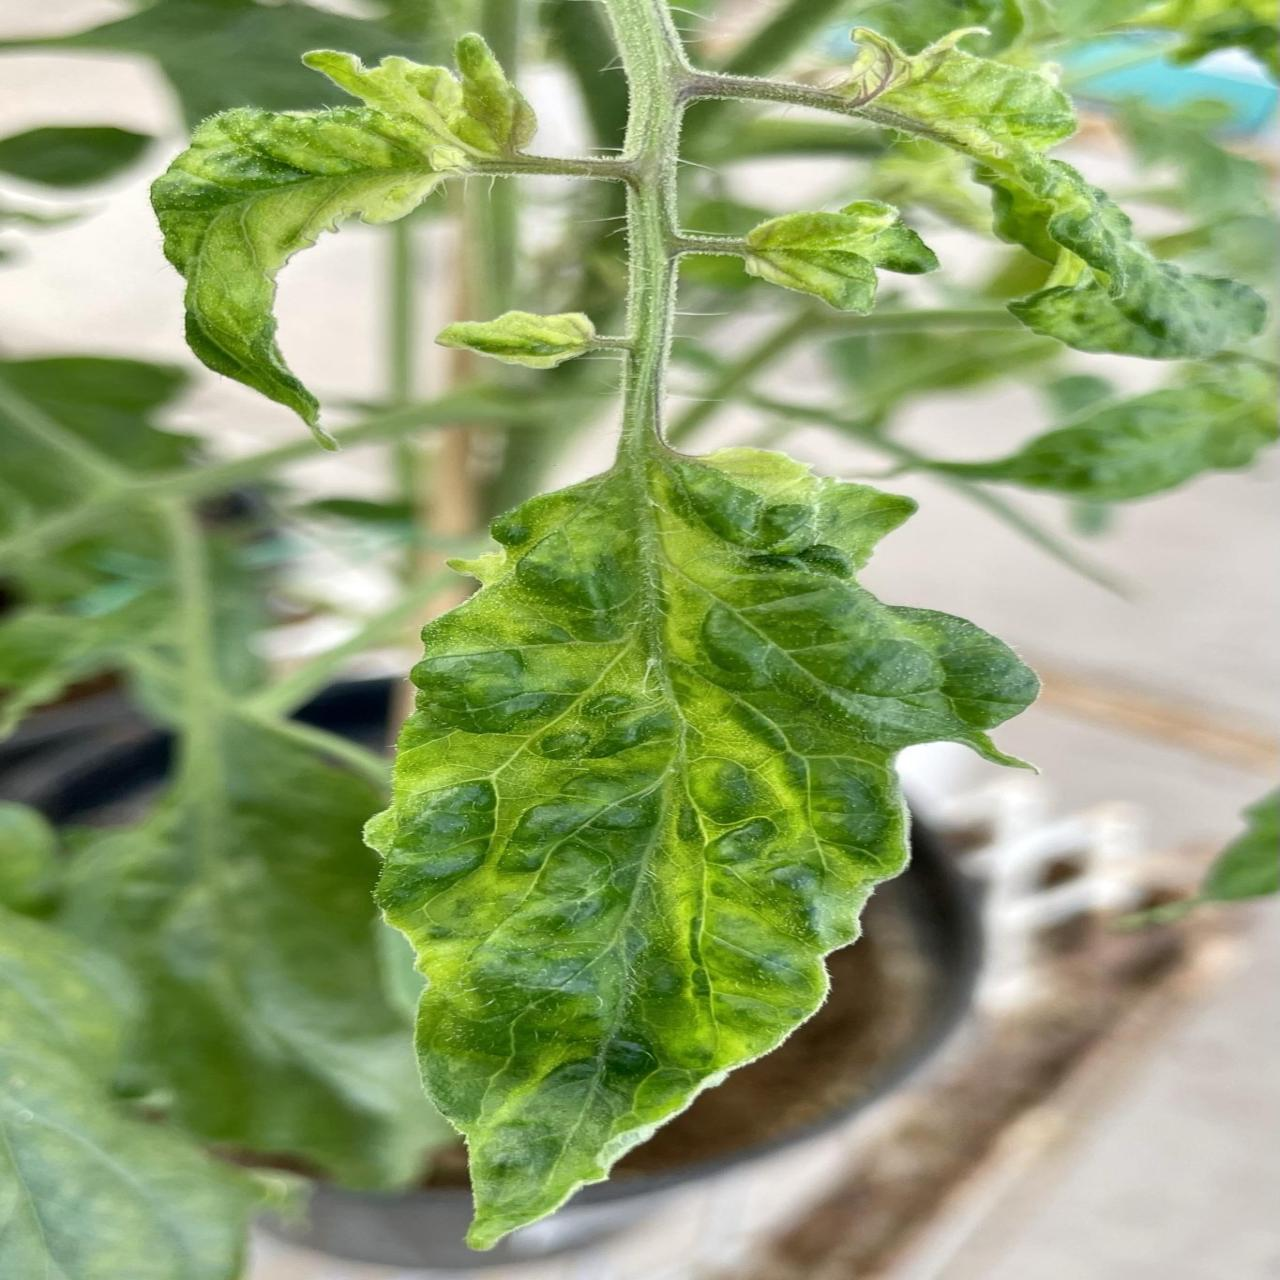T_L_R: (363, 413, 1041, 1254), (147, 35, 536, 434), (1010, 195, 1267, 361), (832, 29, 1077, 156), (748, 200, 938, 314), (436, 311, 610, 369)
T_S_R: (604, 1, 738, 464)
